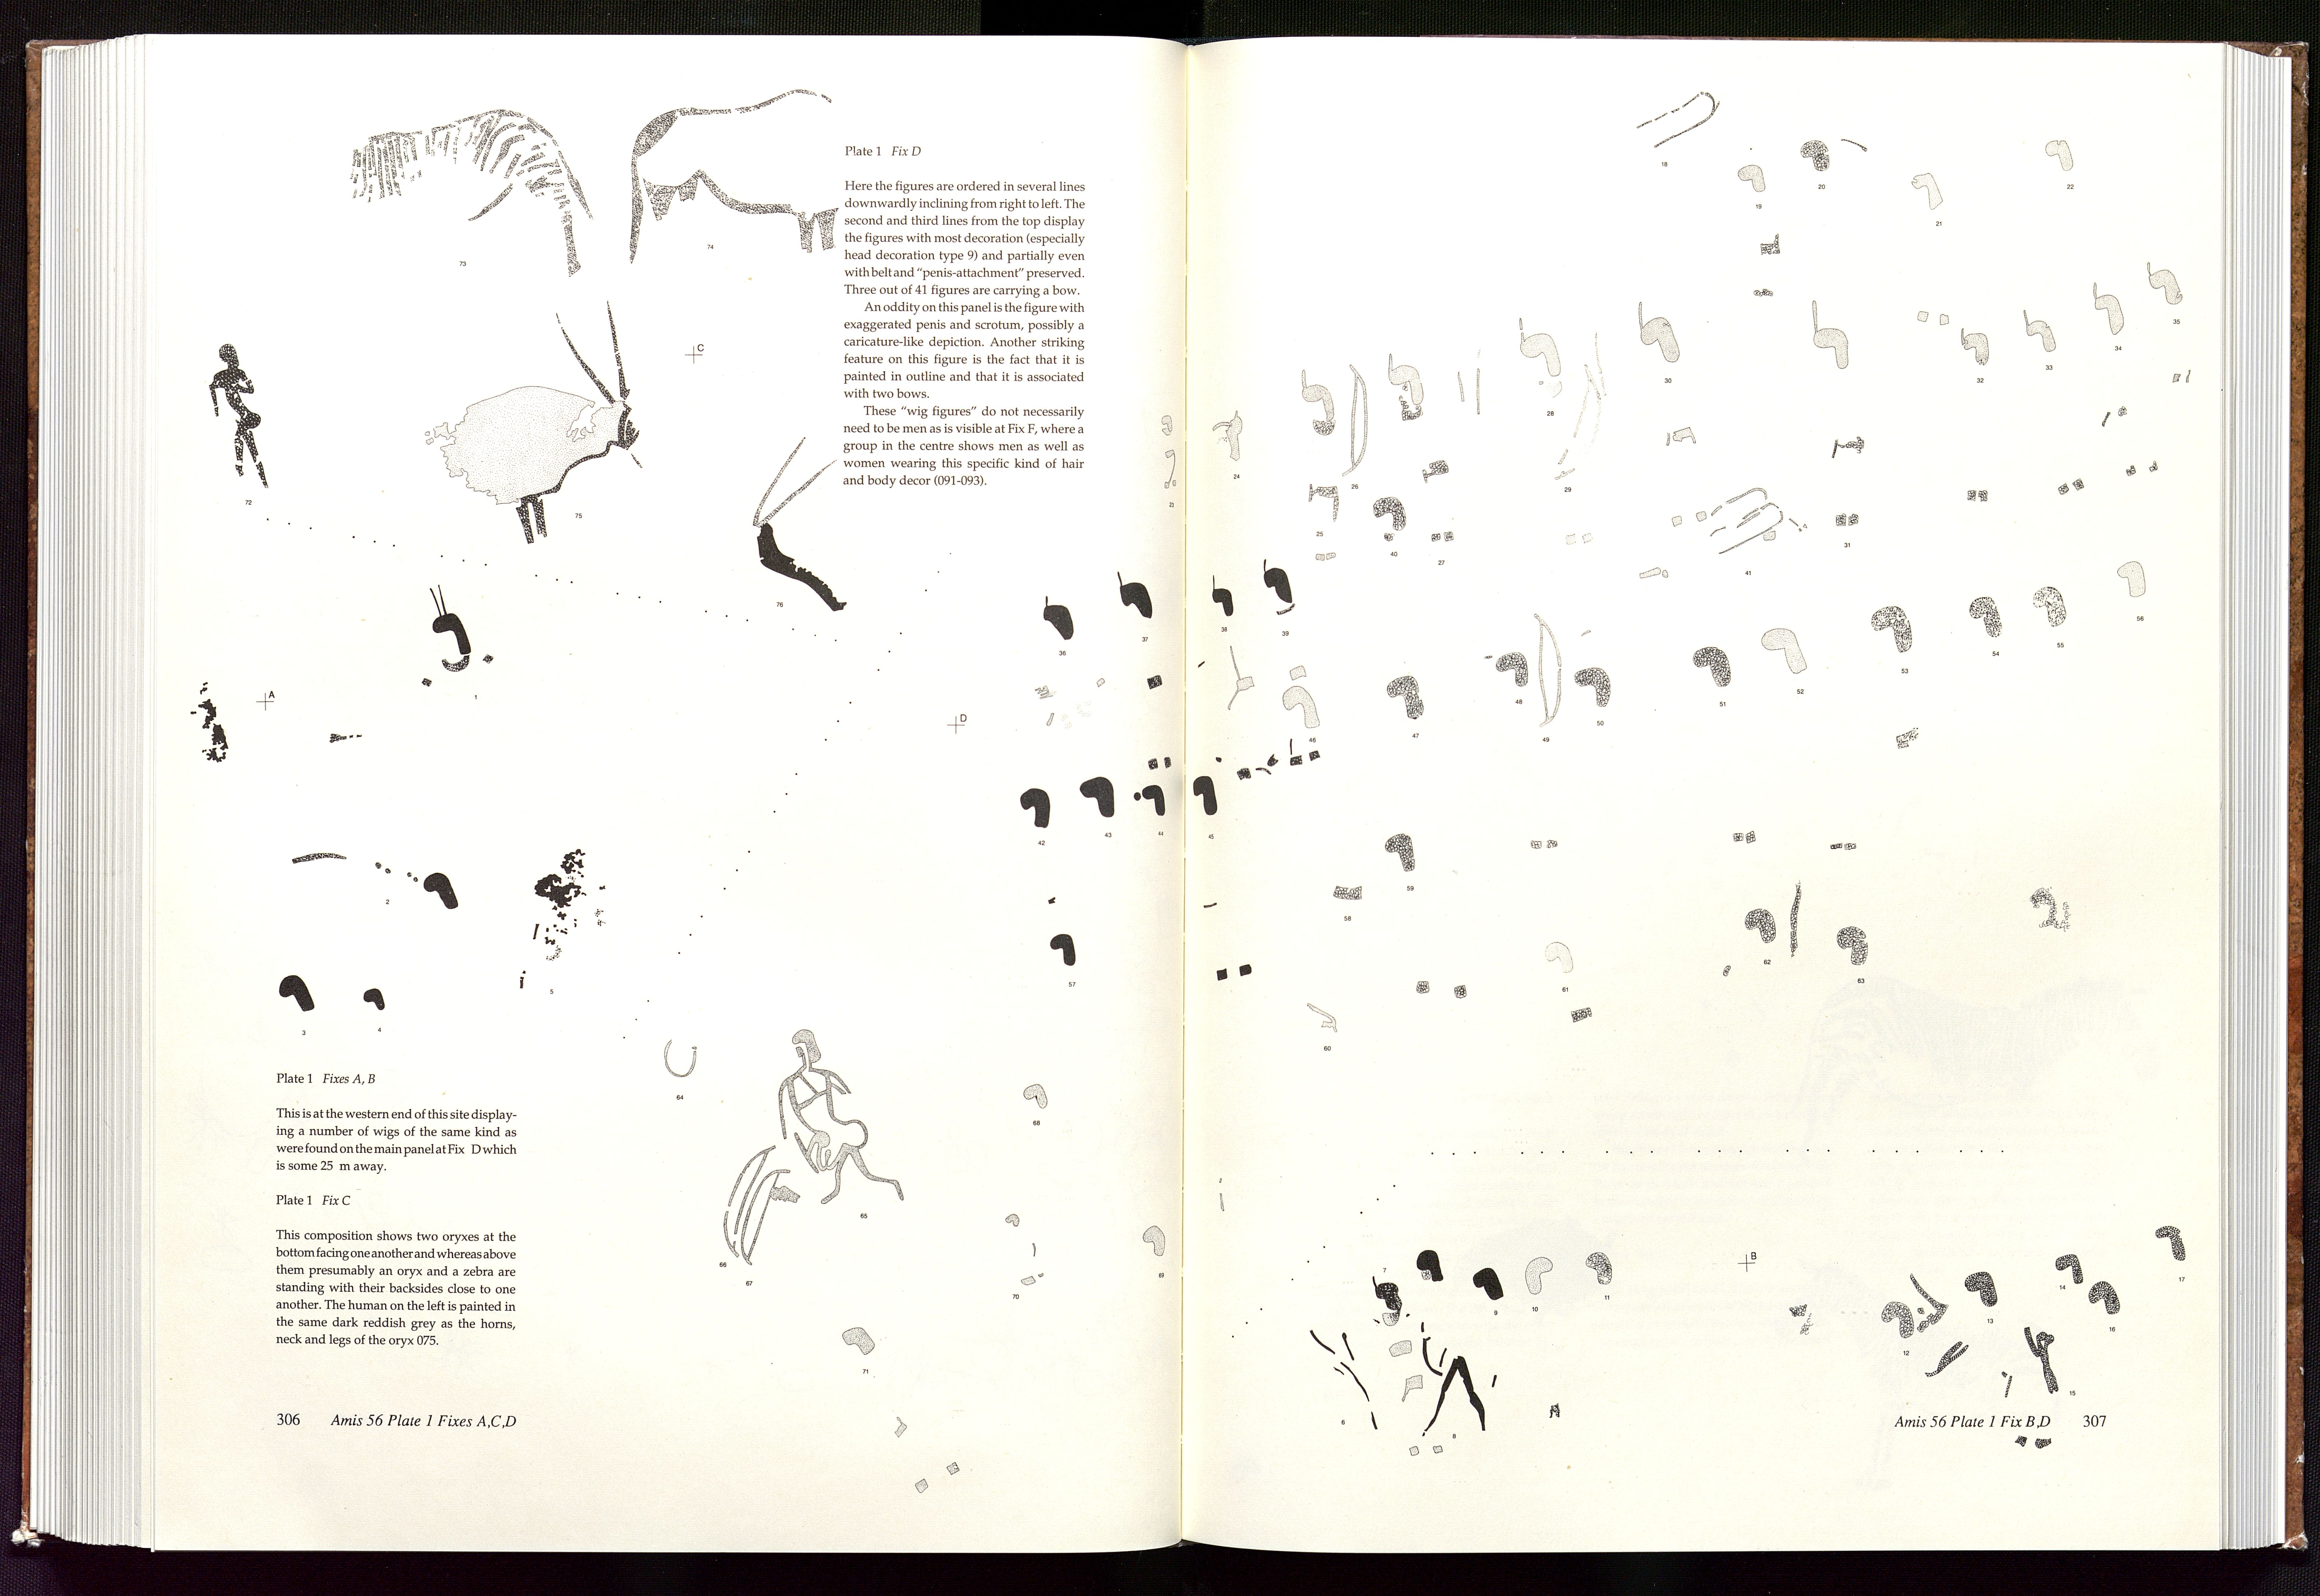animal: (413, 291, 661, 552), (341, 96, 597, 285), (621, 82, 839, 269), (745, 426, 854, 615)
human: (775, 1020, 909, 1206), (1411, 1235, 1490, 1446), (510, 835, 592, 1004), (200, 341, 282, 500), (778, 1048, 830, 1178)
